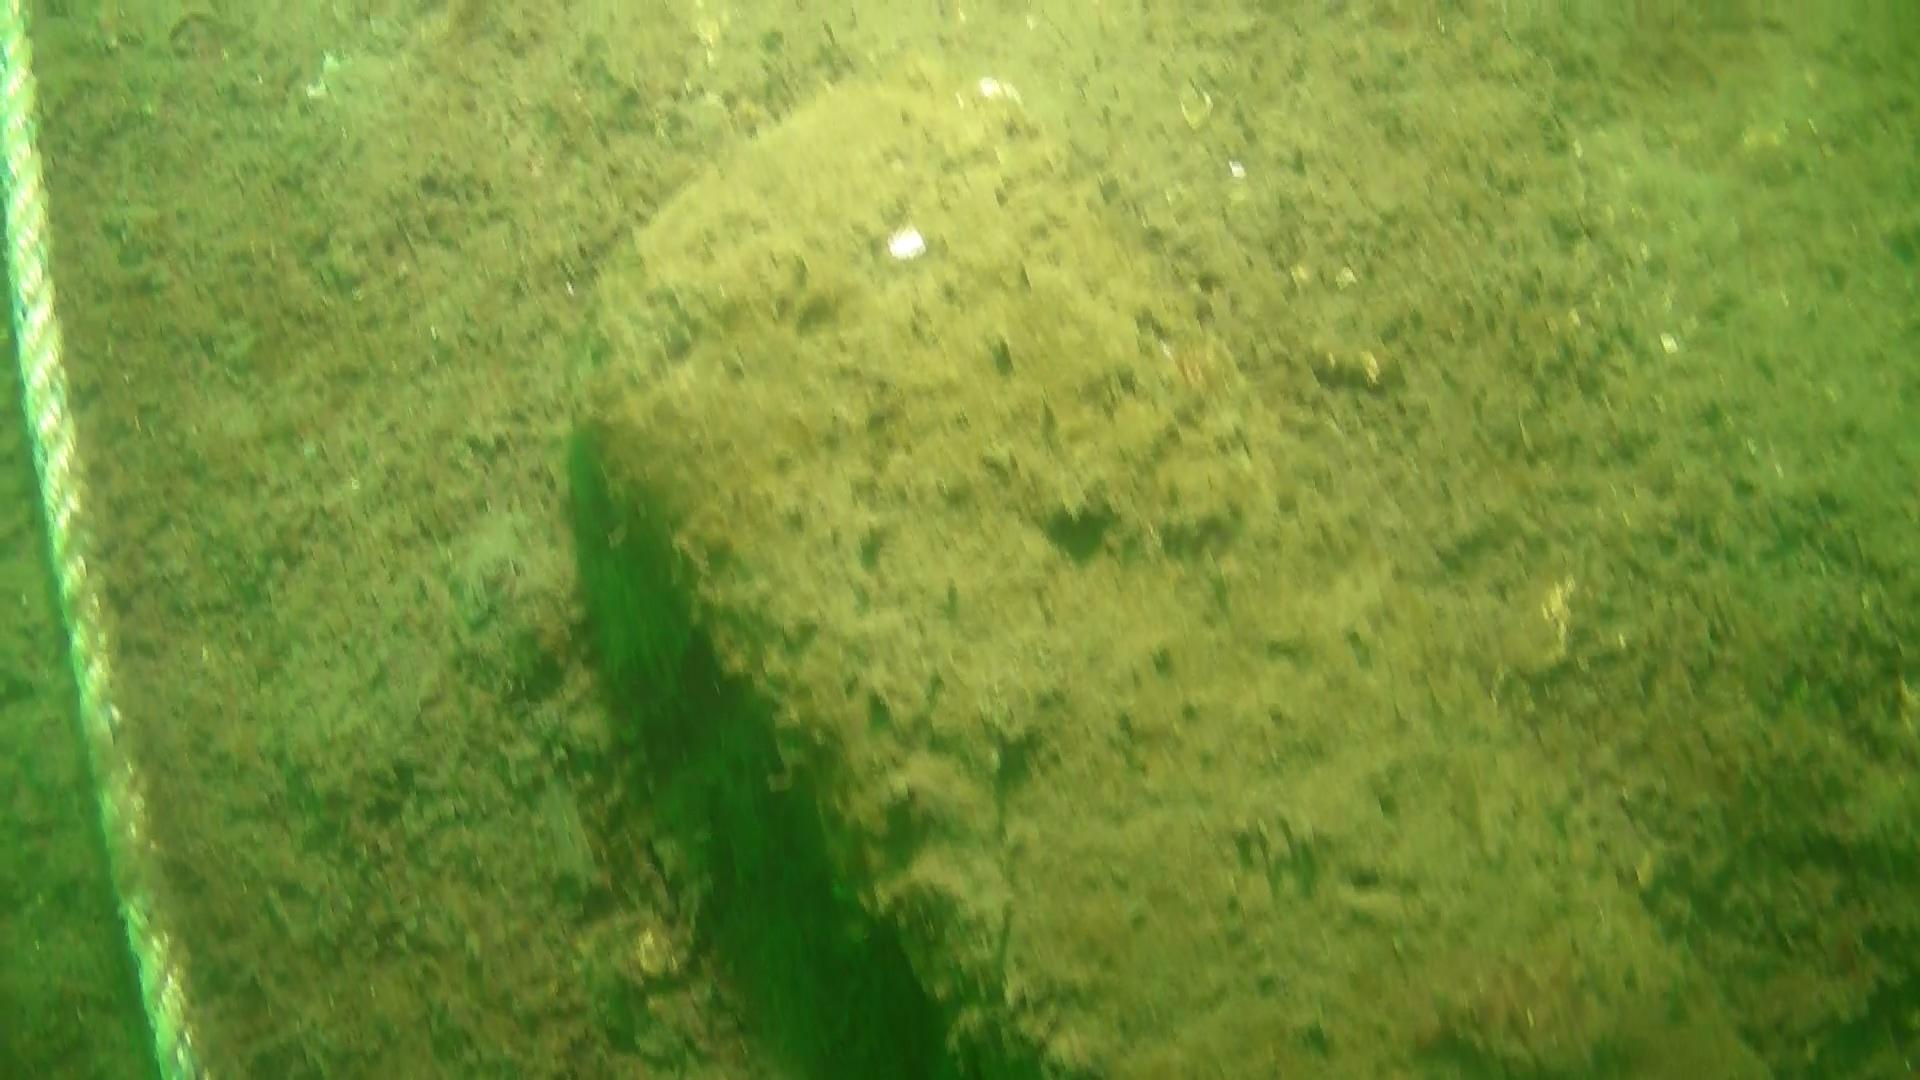rope: (0, 0, 212, 1080)
